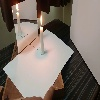fire: (40, 14, 44, 28)
